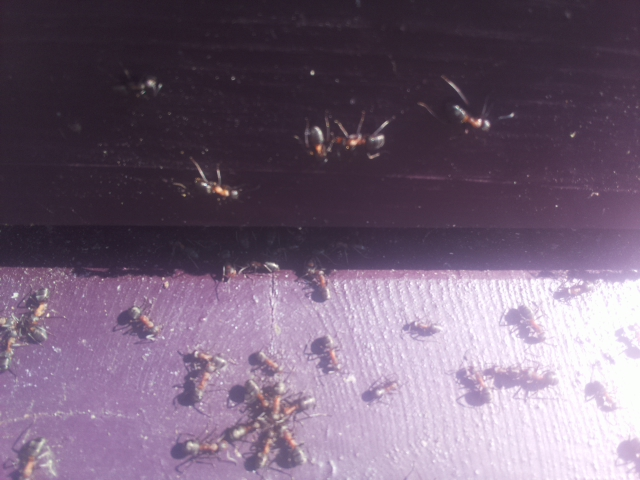ant: (326, 118, 394, 160), (9, 434, 57, 480), (115, 63, 167, 105), (297, 113, 336, 167), (186, 170, 246, 205), (442, 99, 494, 135), (23, 282, 52, 341), (357, 374, 406, 406), (122, 302, 163, 339), (178, 434, 232, 462), (278, 421, 308, 468), (582, 380, 621, 414), (515, 300, 545, 343), (313, 334, 346, 373), (278, 393, 321, 422), (251, 431, 278, 475), (192, 346, 231, 375), (614, 434, 639, 478), (309, 263, 332, 310), (252, 350, 287, 374)
